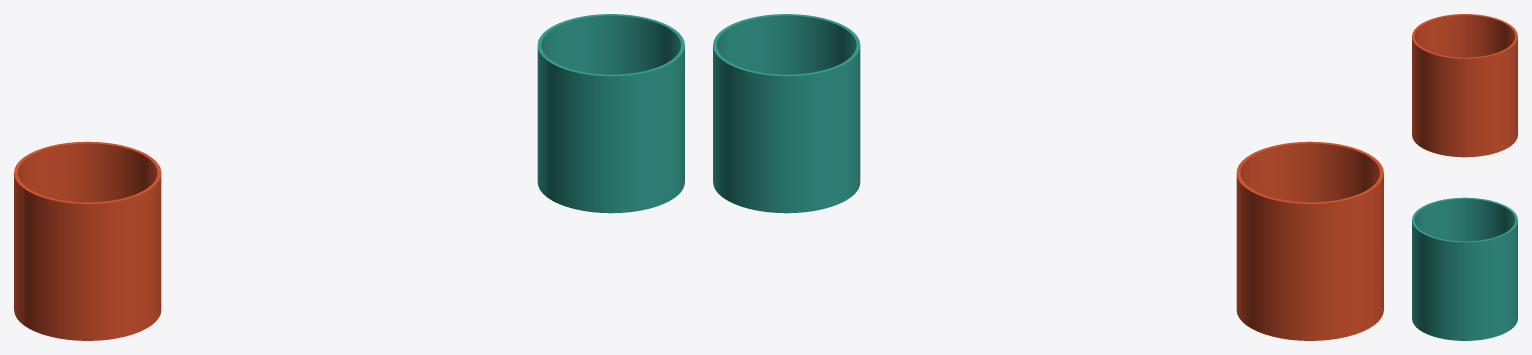
Rendered from demineralization_plant_pressure.glb.
3 views of the same model, side by side, from view 1: azimuth 30°, elevation 25°; view 2: azimuth 150°, elevation 25°; view 3: azimuth 270°, elevation 25° (orthographic). The views are drawn at different scales.
Visible parts, largest first — view 1: pressure__front, pressure__back; view 2: pressure__back, pressure__front; view 3: pressure__back, pressure__front.
Part boxes in pixels (<box>): pressure__front: <box>24,29,684,340</box>; pressure__back: <box>14,14,674,324</box>; pressure__back: <box>713,29,1373,340</box>; pressure__front: <box>723,14,1383,324</box>; pressure__back: <box>1465,14,1517,340</box>; pressure__front: <box>1412,14,1464,340</box>.
Size of the model in its own units: 3.98 by 0.8 by 0.78.
